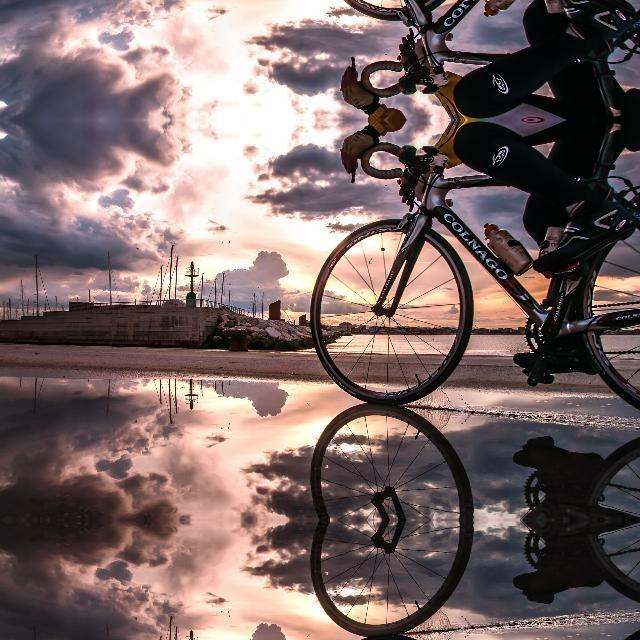obstacle: (271, 138, 640, 409), (271, 0, 640, 101), (271, 630, 640, 640)
